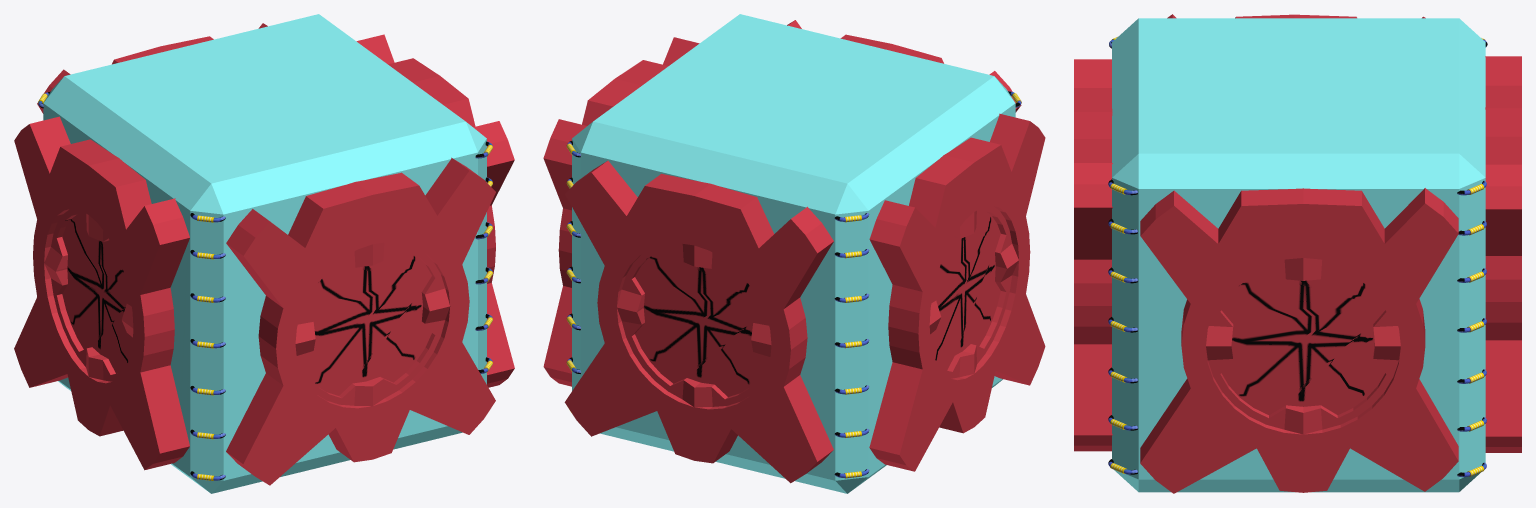
The model's file is Dock.fbx.
The picture shows the model from 3 angles, left to right: view 1: azimuth 30°, elevation 25°; view 2: azimuth 150°, elevation 25°; view 3: azimuth 270°, elevation 25°; orthographic projection. The views are drawn at different scales.
Visible parts, largest first — view 1: Cube, Platform2Dock1.002, Platform2Dock1.004, Platform2Dock1.005, Platform2Dock1.003; view 2: Cube, Platform2Dock1.003, Platform2Dock1.004, Platform2Dock1.005, Platform2Dock1.002; view 3: Cube, Platform2Dock1.005, Platform2Dock1.002, Platform2Dock1.003.
Boxes of the visible parts, x1,y1,x2,y2 form: Cube: (43,14,486,493); Platform2Dock1.002: (226,157,495,485); Platform2Dock1.004: (14,116,189,470); Platform2Dock1.005: (356,34,514,387); Platform2Dock1.003: (37,23,267,113); Cube: (572,14,1015,493); Platform2Dock1.003: (564,160,833,483); Platform2Dock1.004: (869,113,1045,471); Platform2Dock1.005: (543,37,699,386); Platform2Dock1.002: (787,20,1021,112); Cube: (1112,18,1485,492); Platform2Dock1.005: (1140,188,1458,493); Platform2Dock1.002: (1074,59,1112,451); Platform2Dock1.003: (1485,56,1521,452).
Bounding box in the file's own units: 240 × 200 × 240.
Materials: 4 (3 with a texture image).
